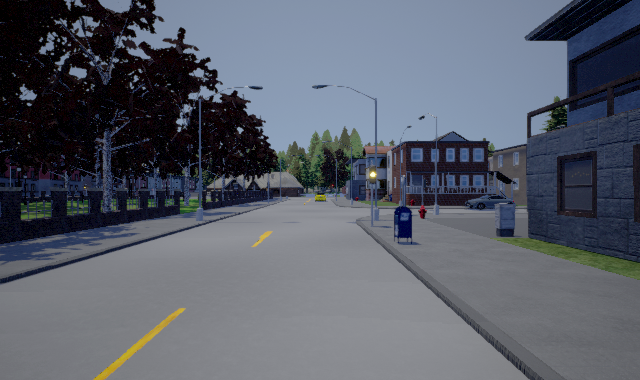traffic_light: (369, 162, 376, 188)
vehicle: (465, 195, 515, 210), (313, 191, 326, 202)
